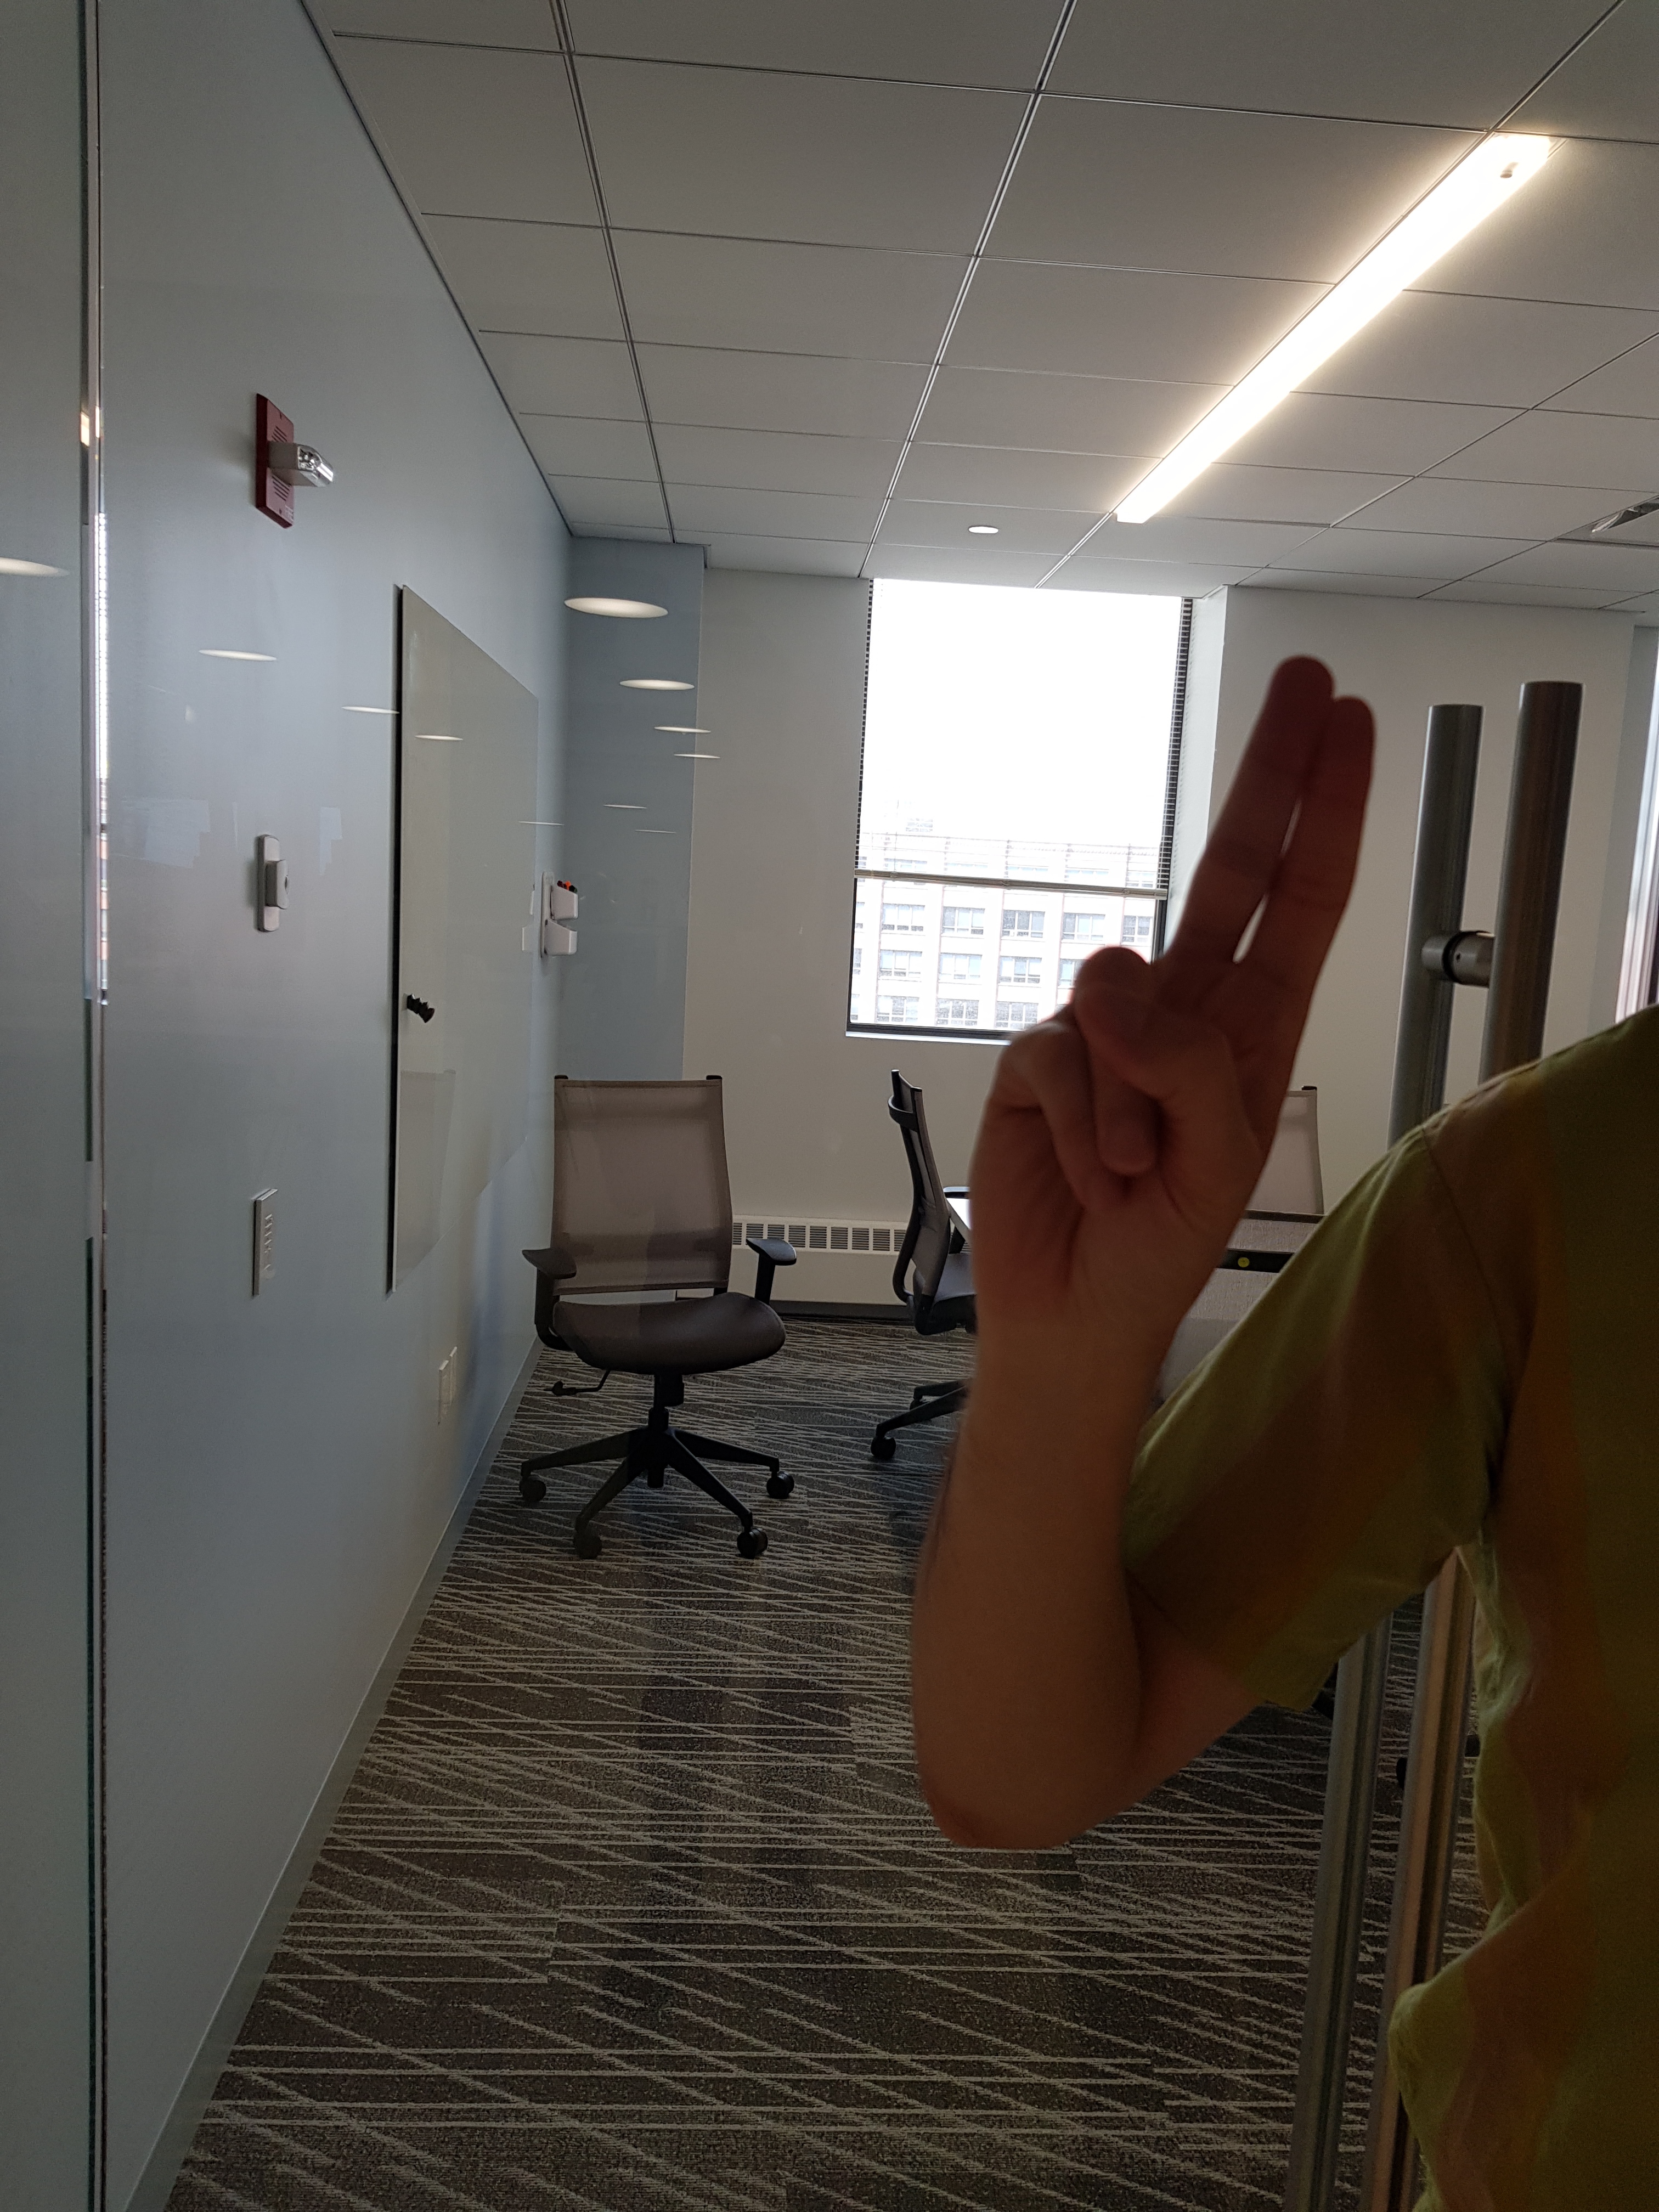u: (910, 629, 1415, 1379)
